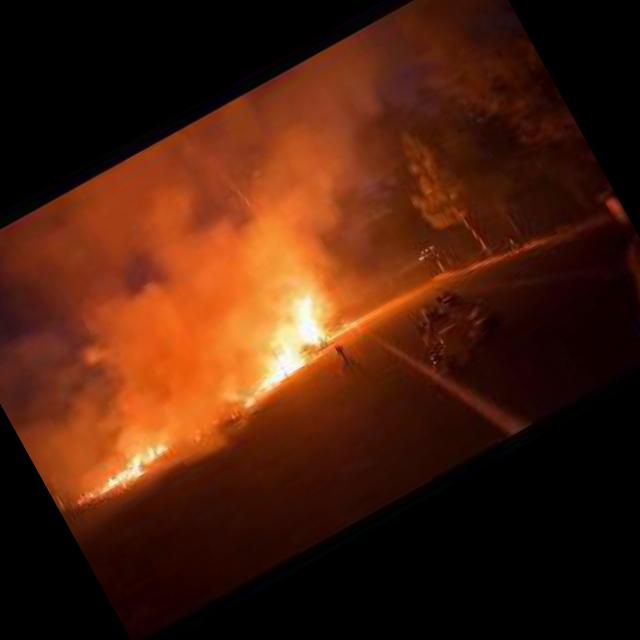fire: (209, 294, 345, 414), (94, 440, 173, 500), (73, 493, 93, 508)
smoke: (88, 21, 464, 340), (0, 236, 227, 499)
